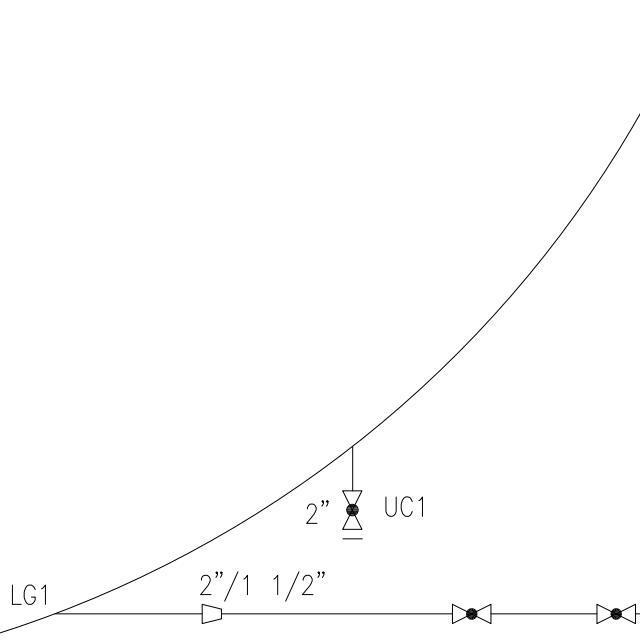BV2: (338, 486, 367, 536), (591, 601, 639, 627), (448, 600, 494, 627)
SP: (198, 601, 225, 627)
